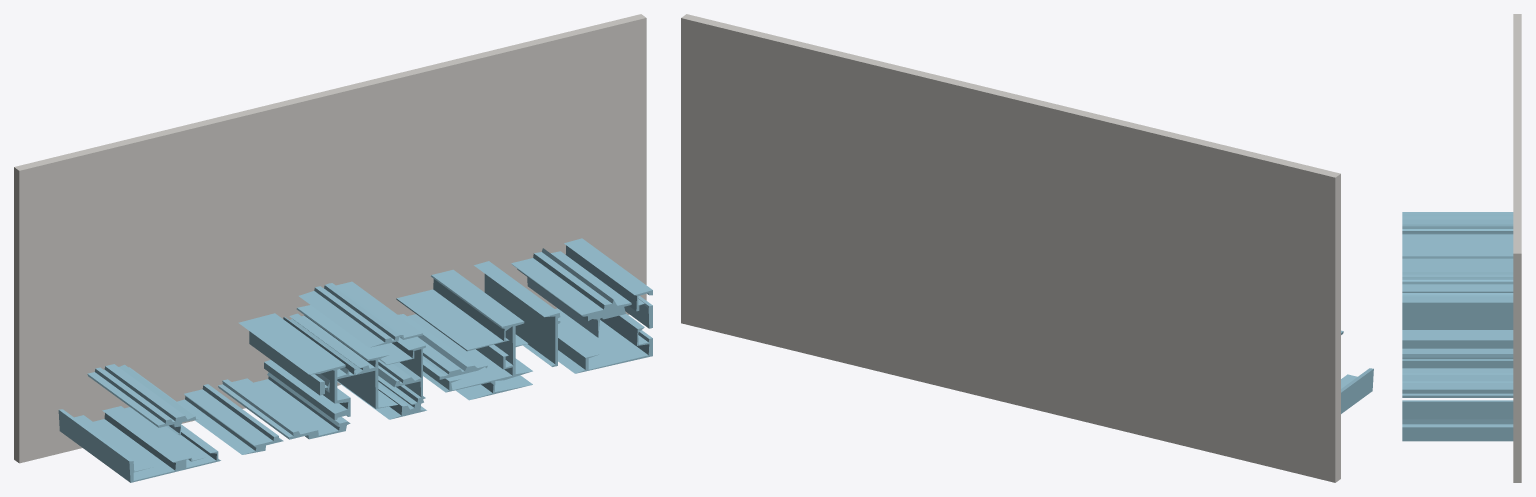
3 renders of one model, left to right at view 1: azimuth 30°, elevation 25°; view 2: azimuth 150°, elevation 25°; view 3: azimuth 270°, elevation 25°, orthographic. The views are drawn at different scales.
Visible parts, largest first — view 1: world; view 2: world; view 3: world.
Part boxes in pixels (x1=…): world: x1=14, y1=14, x2=652, y2=482; world: x1=681, y1=14, x2=1373, y2=482; world: x1=1402, y1=14, x2=1521, y2=482.
Size of the model in its own units: 10.23 by 4.56 by 2.15.
